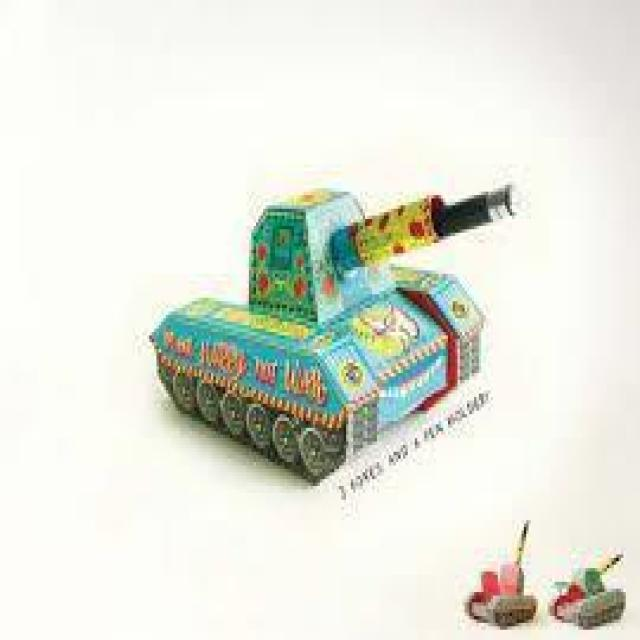Tanks: (150, 154, 556, 459)
